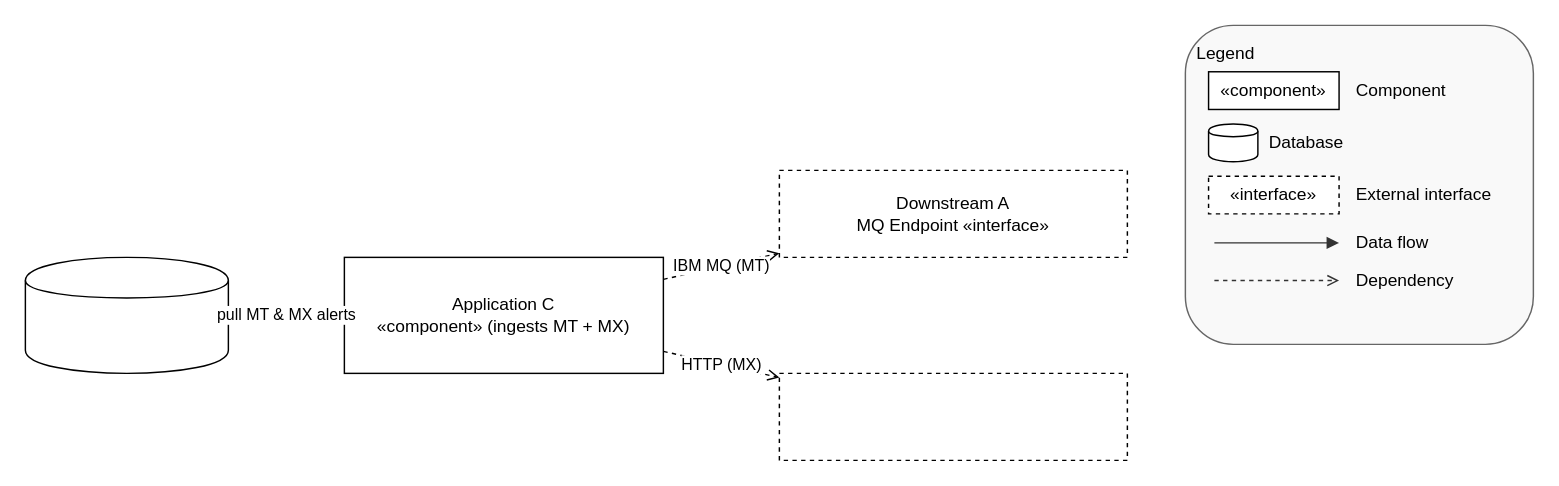
Image size: 1559x486. Some labels were removed from this diagram. Each missing label, with the centre of its shape:
"Downstream A HTTP Endpoint «interface»" goes at point (952, 416).
"System A DB «database»" goes at point (126, 314).
